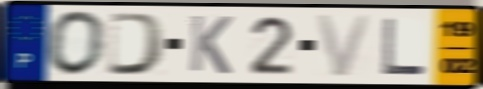2: (248, 15, 296, 77)
D: (104, 11, 169, 77)
K: (187, 13, 235, 77)
L: (380, 16, 429, 77)
O: (45, 9, 108, 78)
V: (314, 13, 376, 79)
